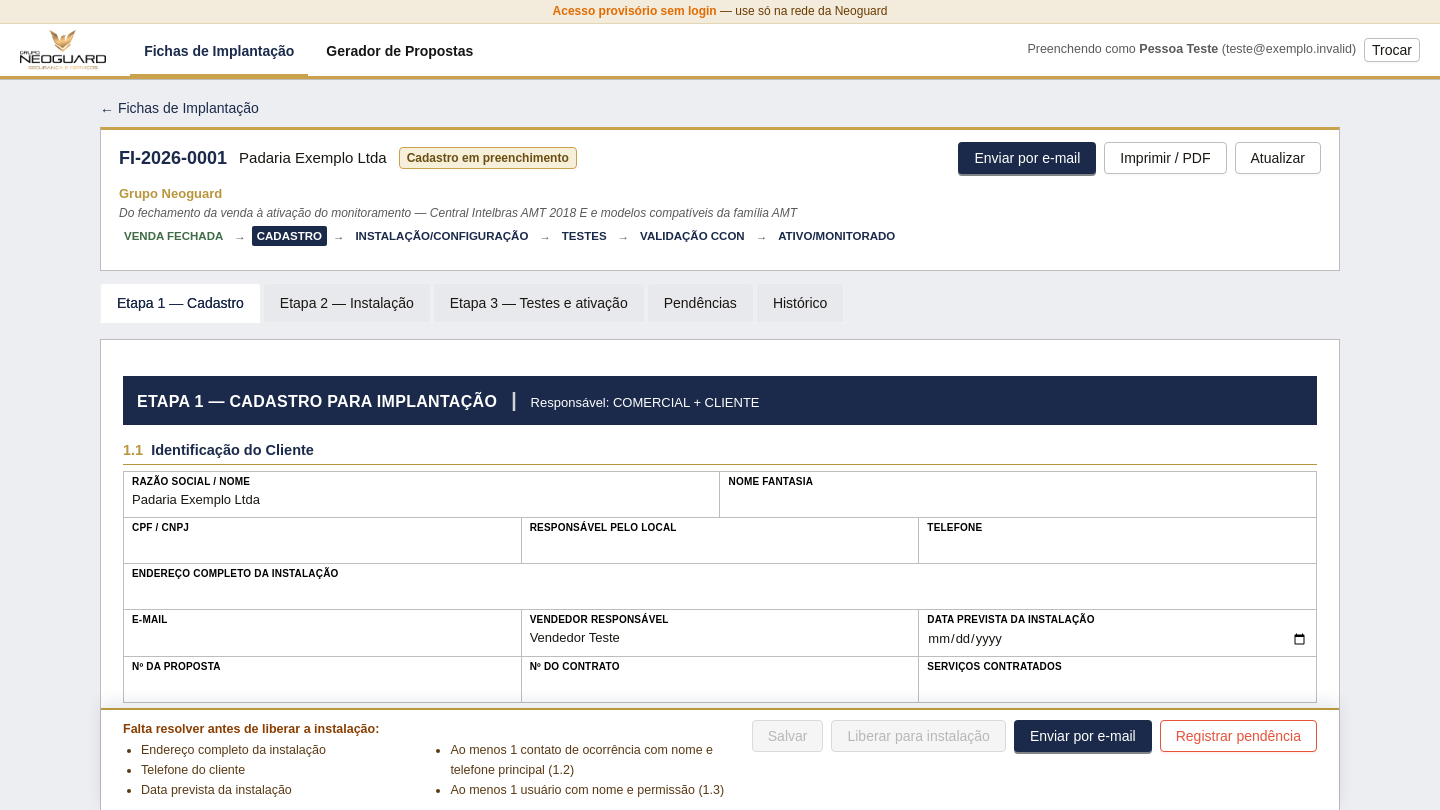
Scenario: Editor da ficha (status: Cadastro em preenchimento) › Etapa 2 e 3 ficam somente leitura, com o motivo exibido
Expected: the element that starts with "Etapa 1 — Cadastro" is shown, [100,283,844,323]
Click the tab "Etapa 2 — Instalação".
click(347, 303)  # box [280,292,414,314]
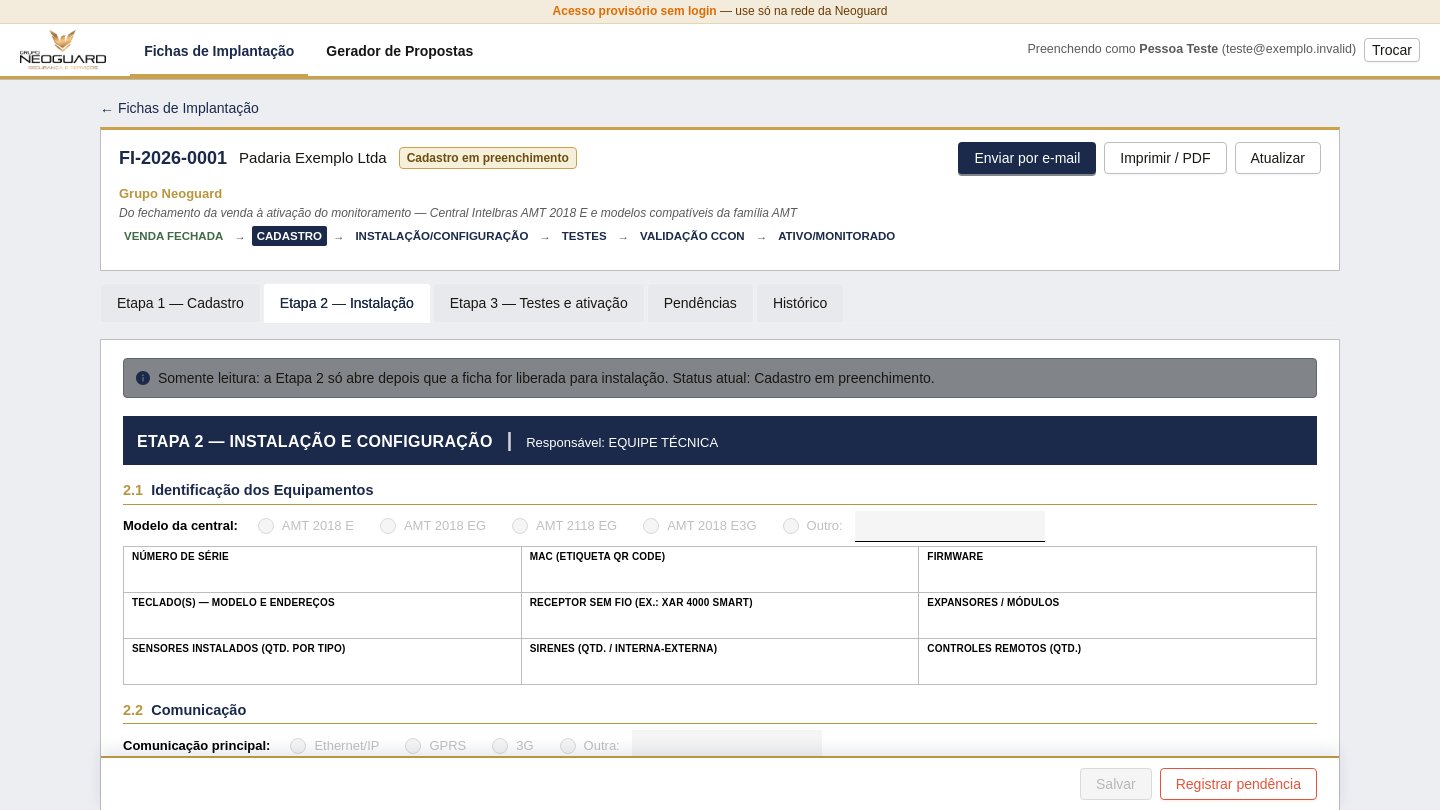
Expected: the button "Salvar" is disabled, [1080,768,1152,800]
Now the message with test id "aviso-somente-leitura" shows "só abre depois que a ficha for liberada para instalação", box [158,370,935,386]
Click the tab "Etapa 3 — Testes e ativação".
click(539, 303)  # box [450,292,628,314]
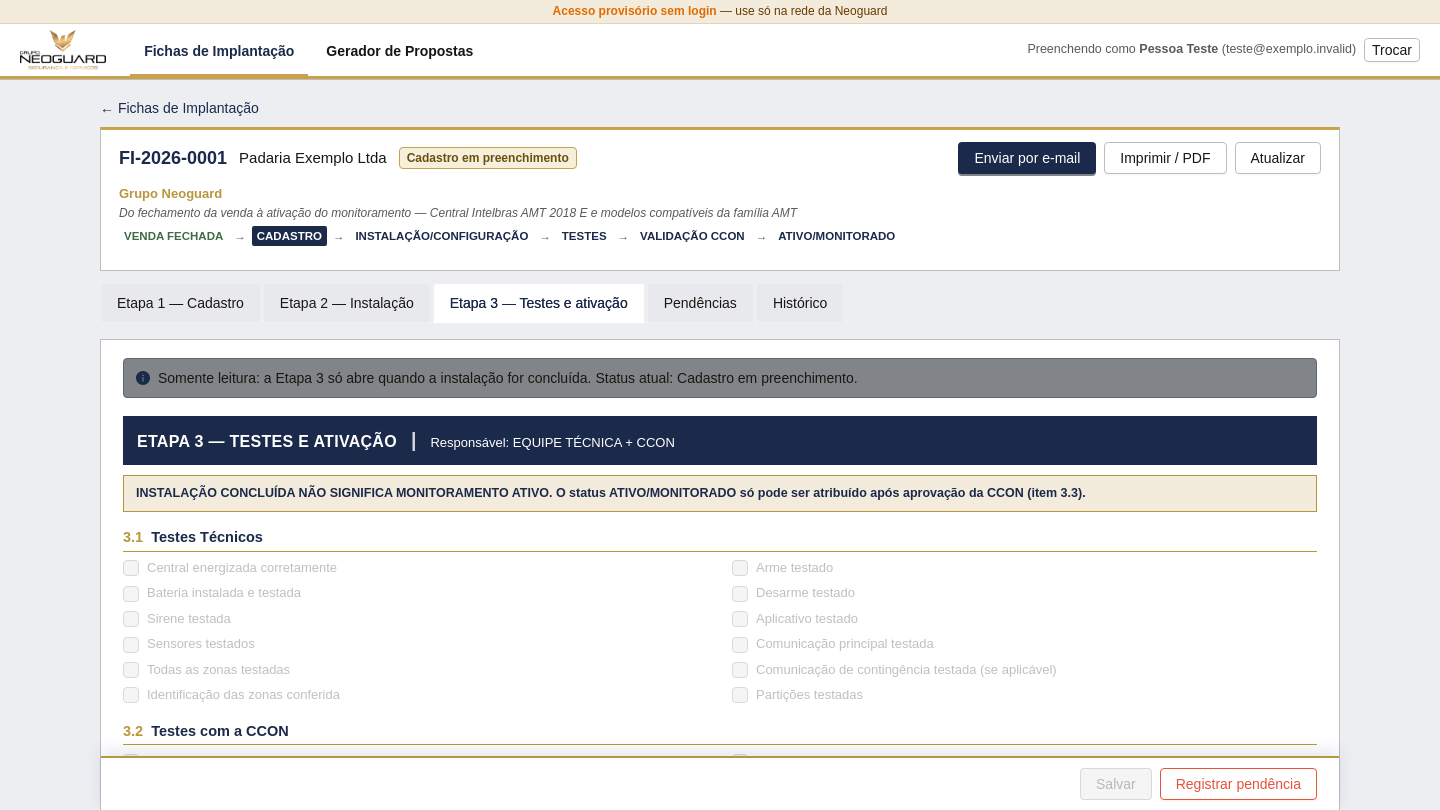
Now the checkbox labelled "Arme testado" is disabled, box [732,558,841,578]
Now the message with test id "aviso-somente-leitura" shows "só abre quando a instalação for concluída", box [158,370,858,386]
